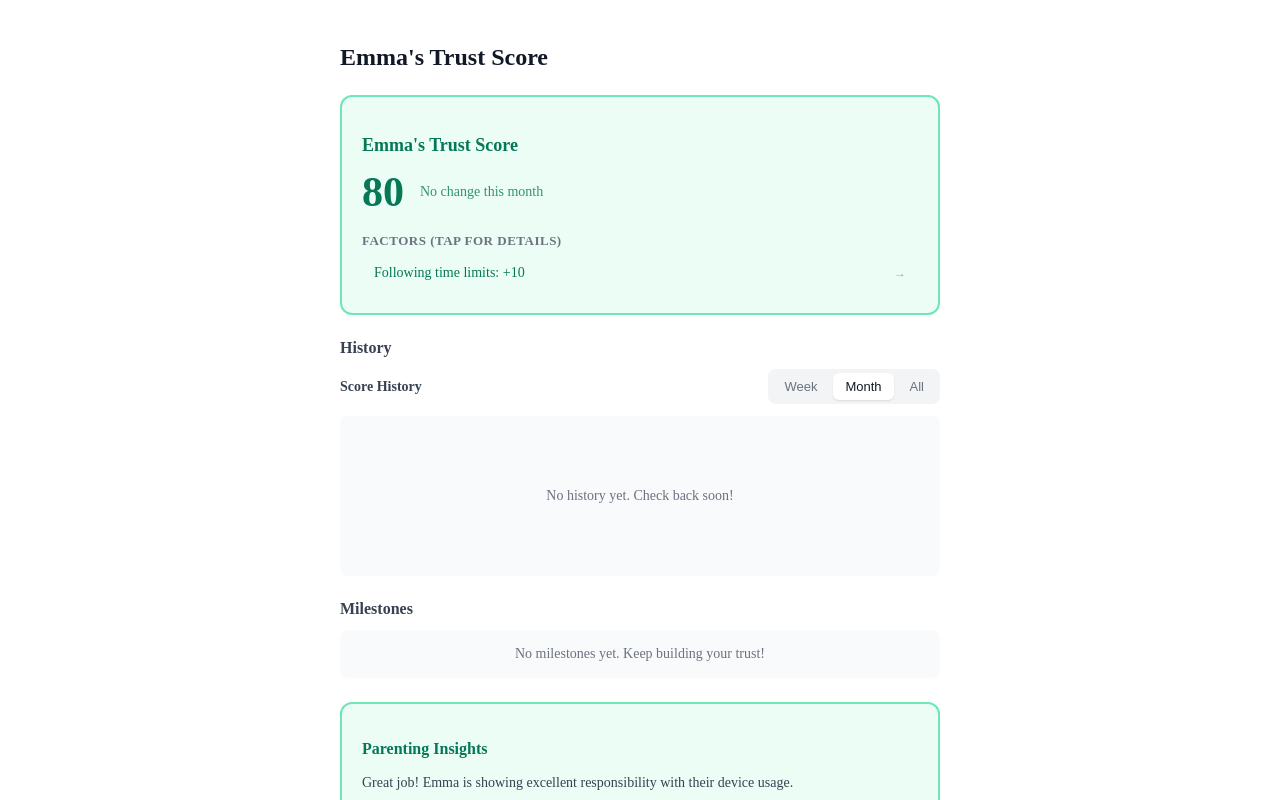
Test: AC4: Factor details on click › should open detail modal when factor clicked
Click the button with test id "parent-factor-0".
click(449, 273)  # box left=362, top=257, right=918, bottom=289
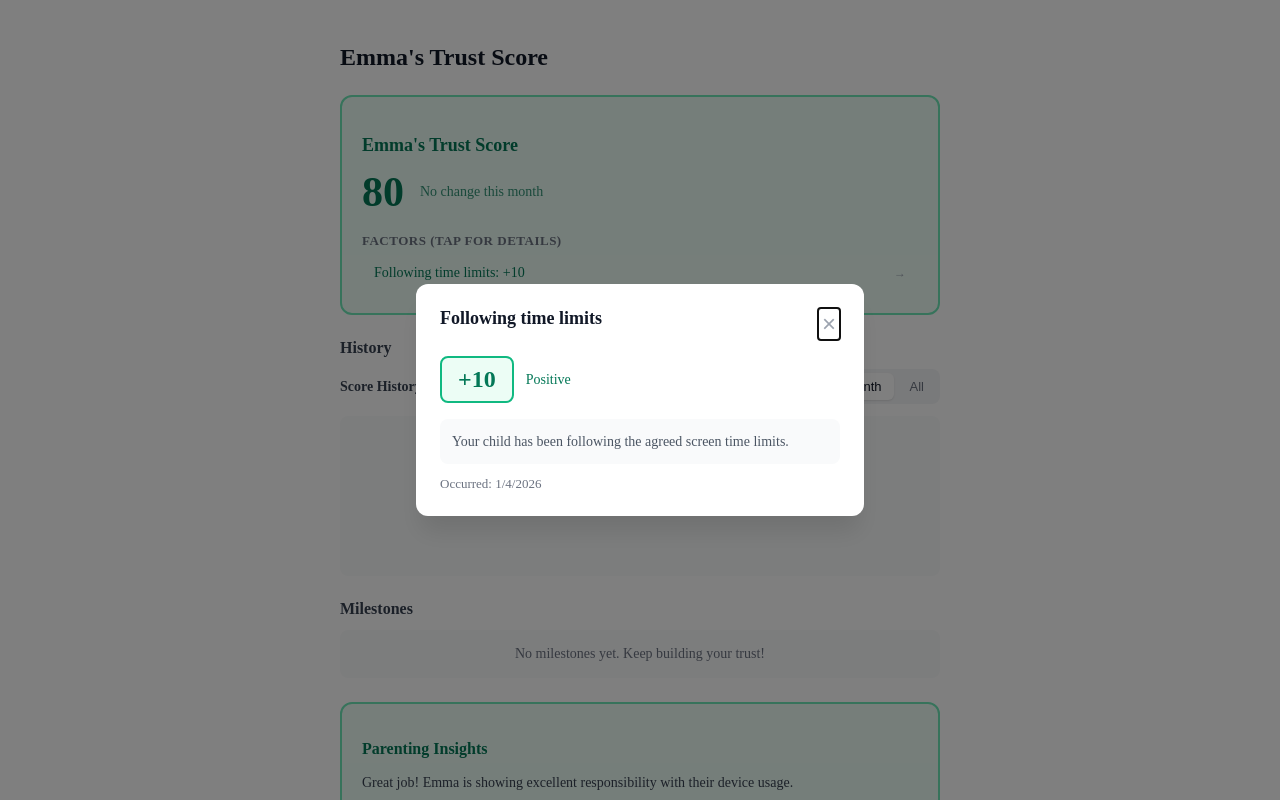
Result: the element with test id "factor-detail-modal" is shown
Result: the dialog is shown at left=416, top=284, right=864, bottom=516
